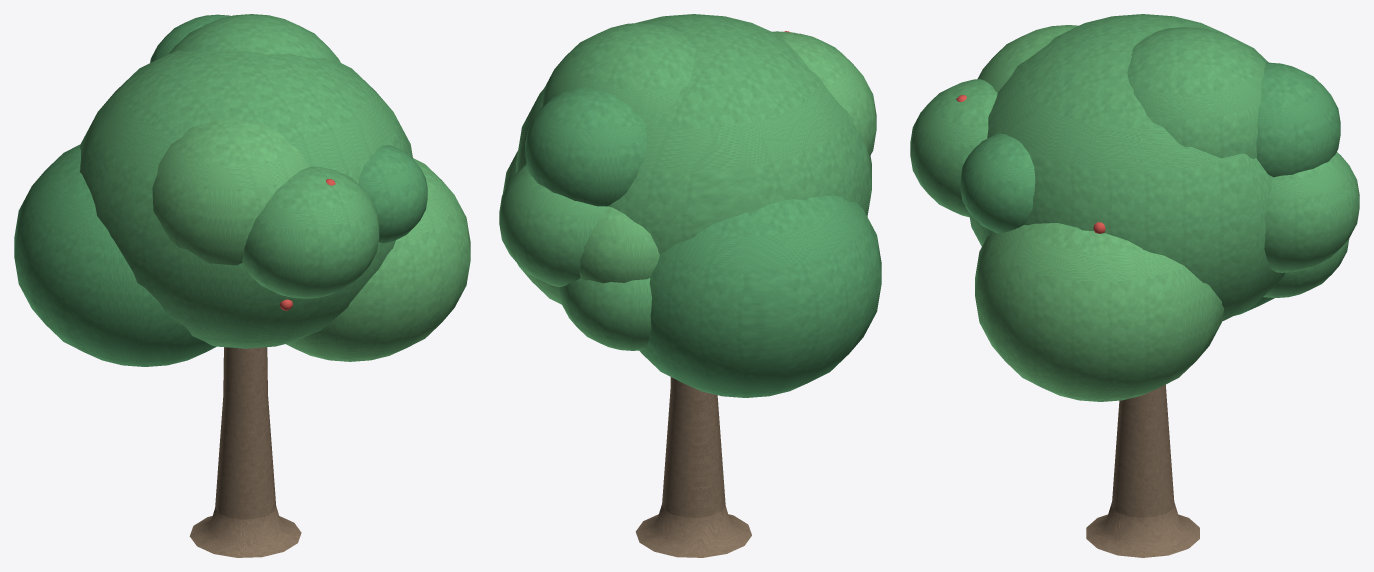
File: tree.glb
3 views of the same model, side by side, from view 1: azimuth 30°, elevation 25°; view 2: azimuth 150°, elevation 25°; view 3: azimuth 270°, elevation 25° (orthographic). The views are drawn at different scales.
Visible parts, largest first — view 1: tree_body; view 2: tree_body; view 3: tree_body.
Boxes of the visible parts, left/top/right/bottom form: tree_body: left=14, top=14, right=470, bottom=557; tree_body: left=499, top=14, right=881, bottom=557; tree_body: left=910, top=14, right=1359, bottom=557.
Bounding box in the file's own units: 4.3 × 5.28 × 4.23.
Materials: 5 (5 with a texture image).
